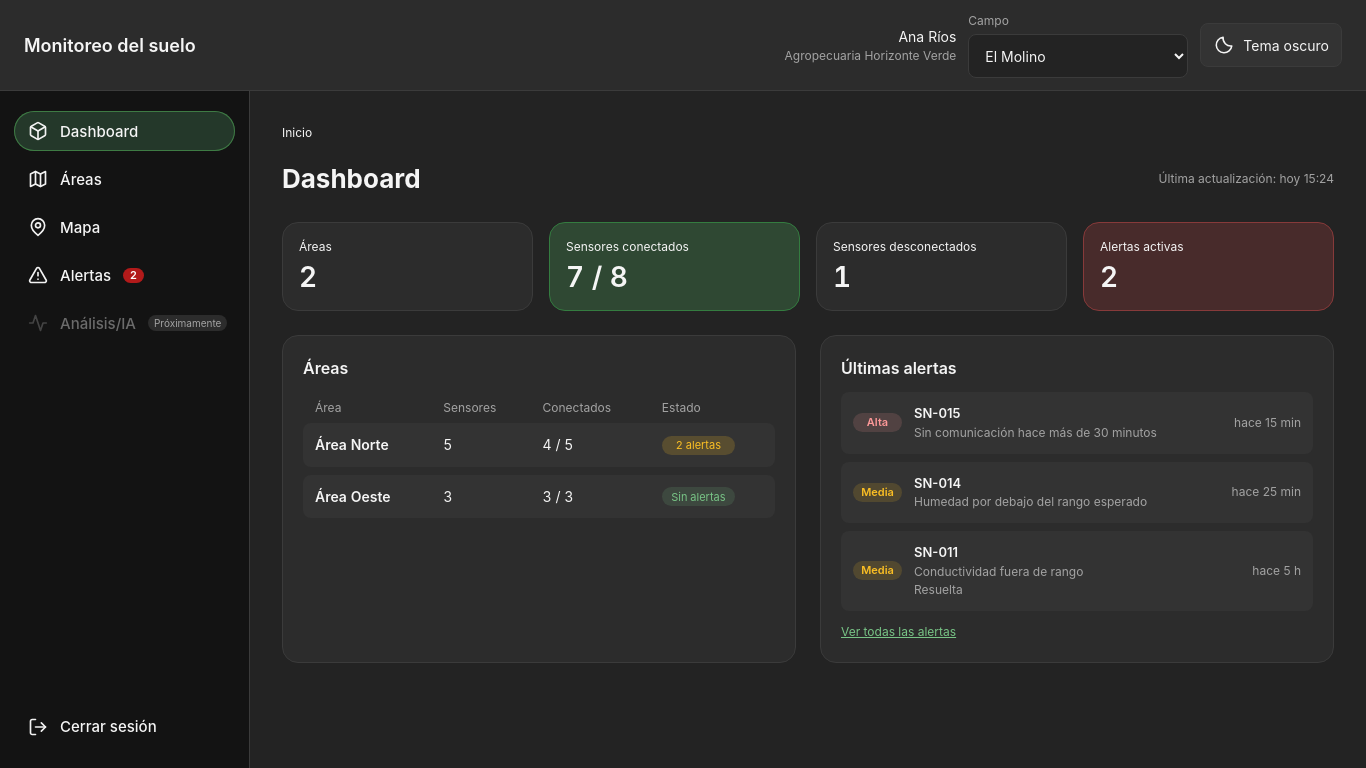
Dashboard y Áreas con el selector real › un error al cambiar dashboard no conserva datos del campo anterior y permite reintentar
Select "La Esperanza" in the dropdown labelled "Campo" at (1078, 56), box [968,34,1188,78]
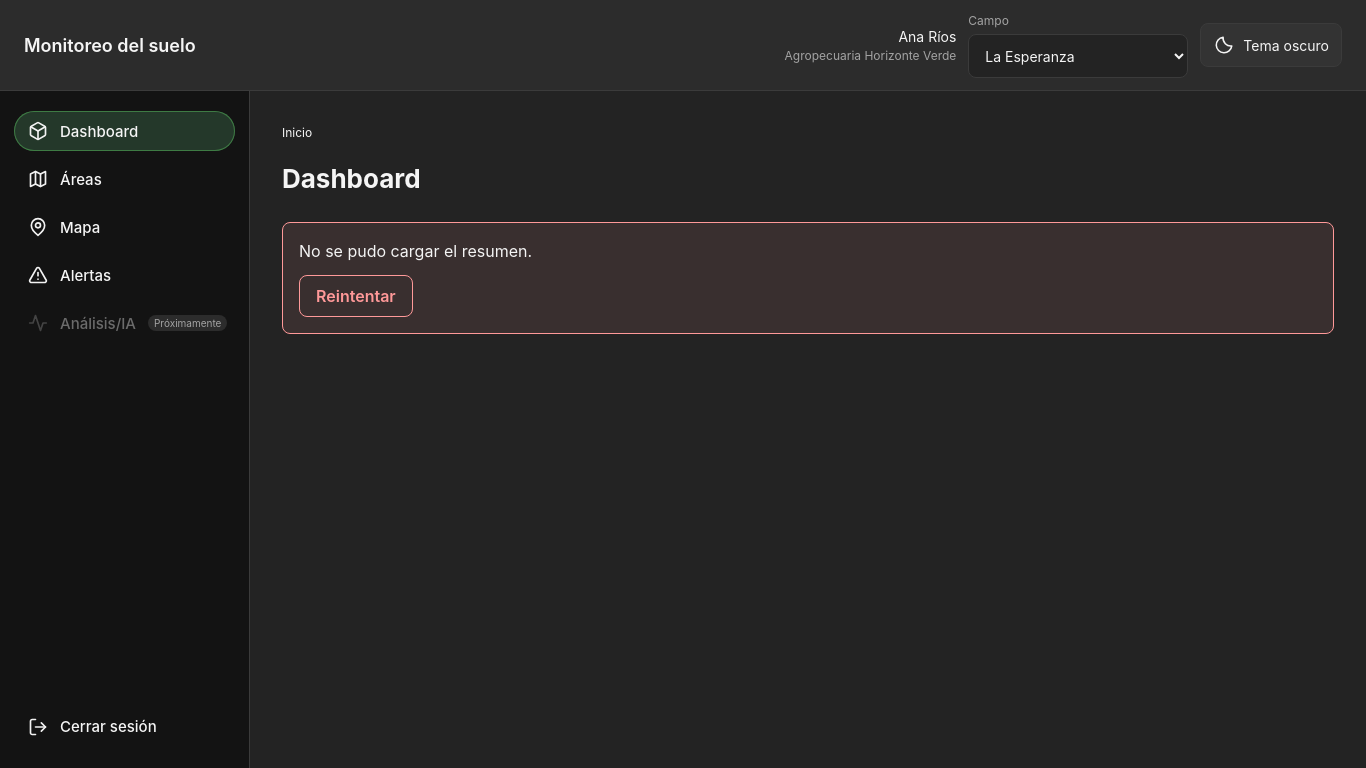
Now the message shows "No se pudo cargar el resumen.", box [299,241,532,261]
Now the link "Área Norte" is gone
Click the button "Reintentar" at (356, 296), box [299,275,413,317]
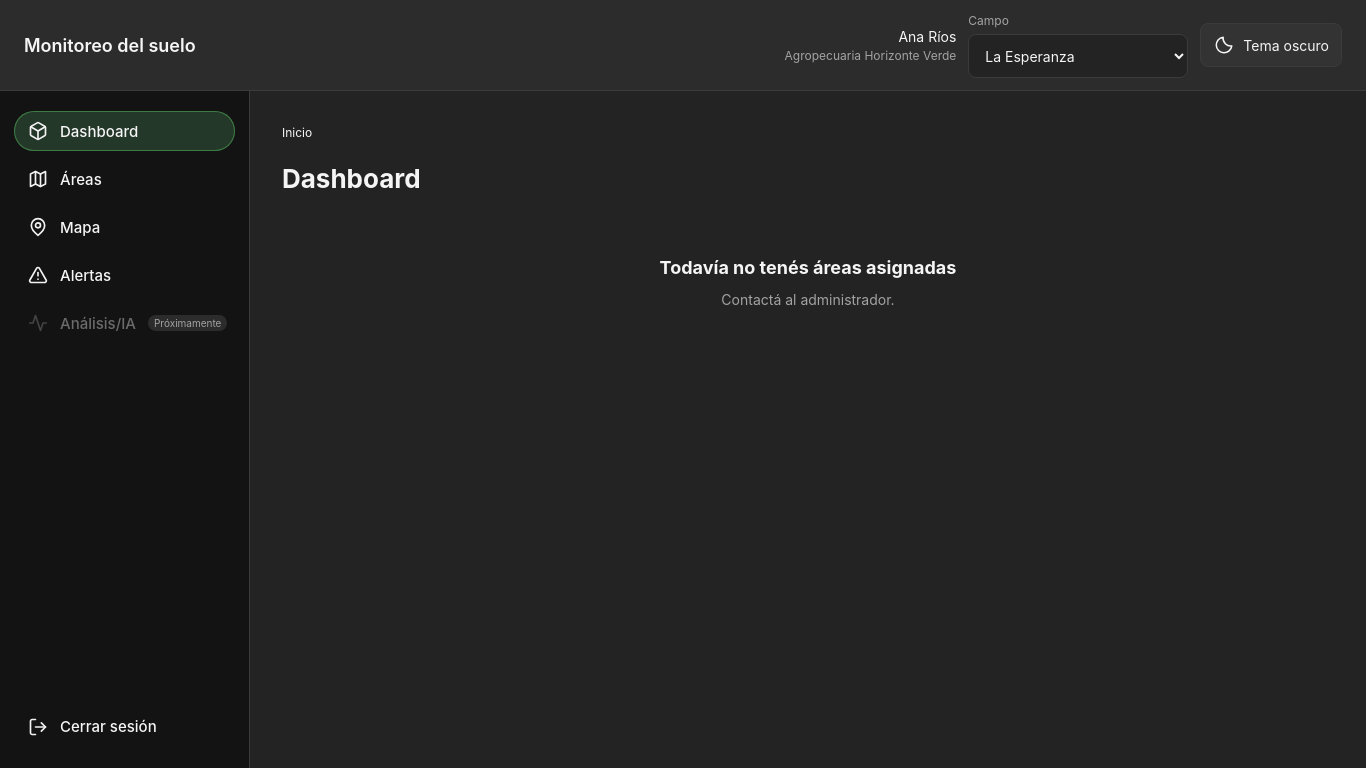
Now the heading "Todavía no tenés áreas asignadas" is shown, box [660,254,956,281]
